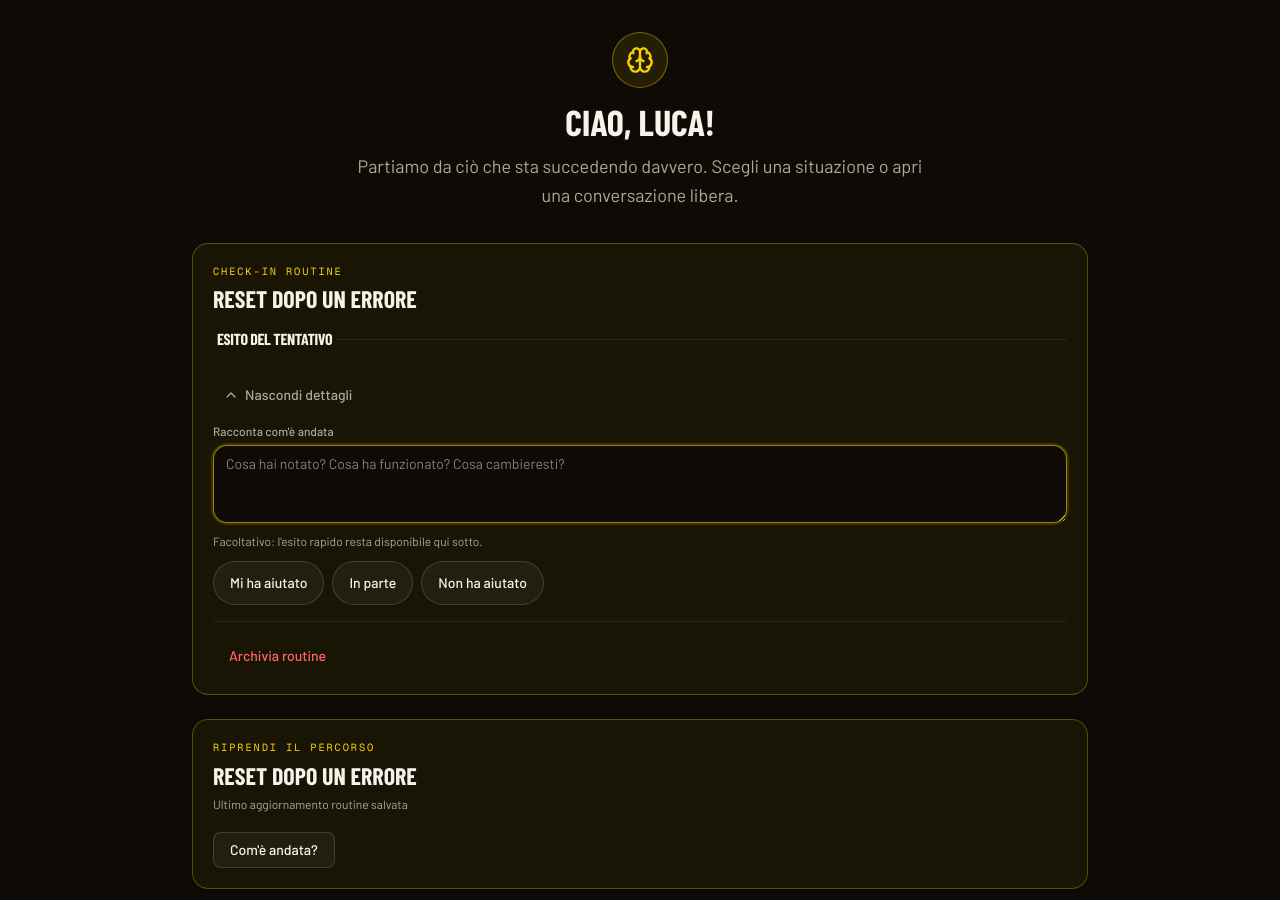
chat landing page › archives an orphan routine after accessible confirmation and clears its return
Check: the element "Esito del tentativo" is shown, box left=213, top=327, right=1067, bottom=605
Click the button "Archivia routine" at coordinates (278, 656), box left=213, top=638, right=342, bottom=674
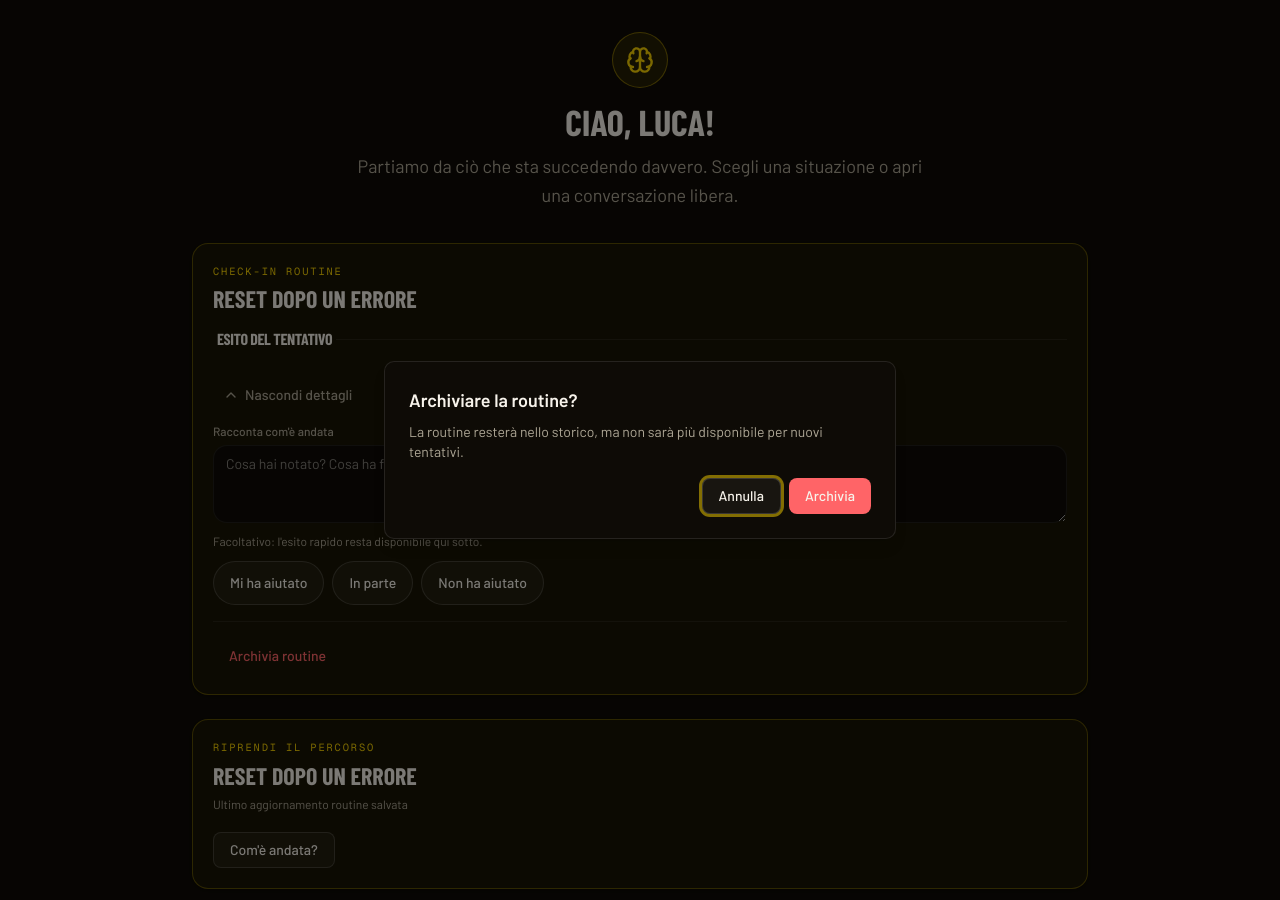
Click the button "Archivia" at coordinates (830, 496), box left=789, top=478, right=871, bottom=514
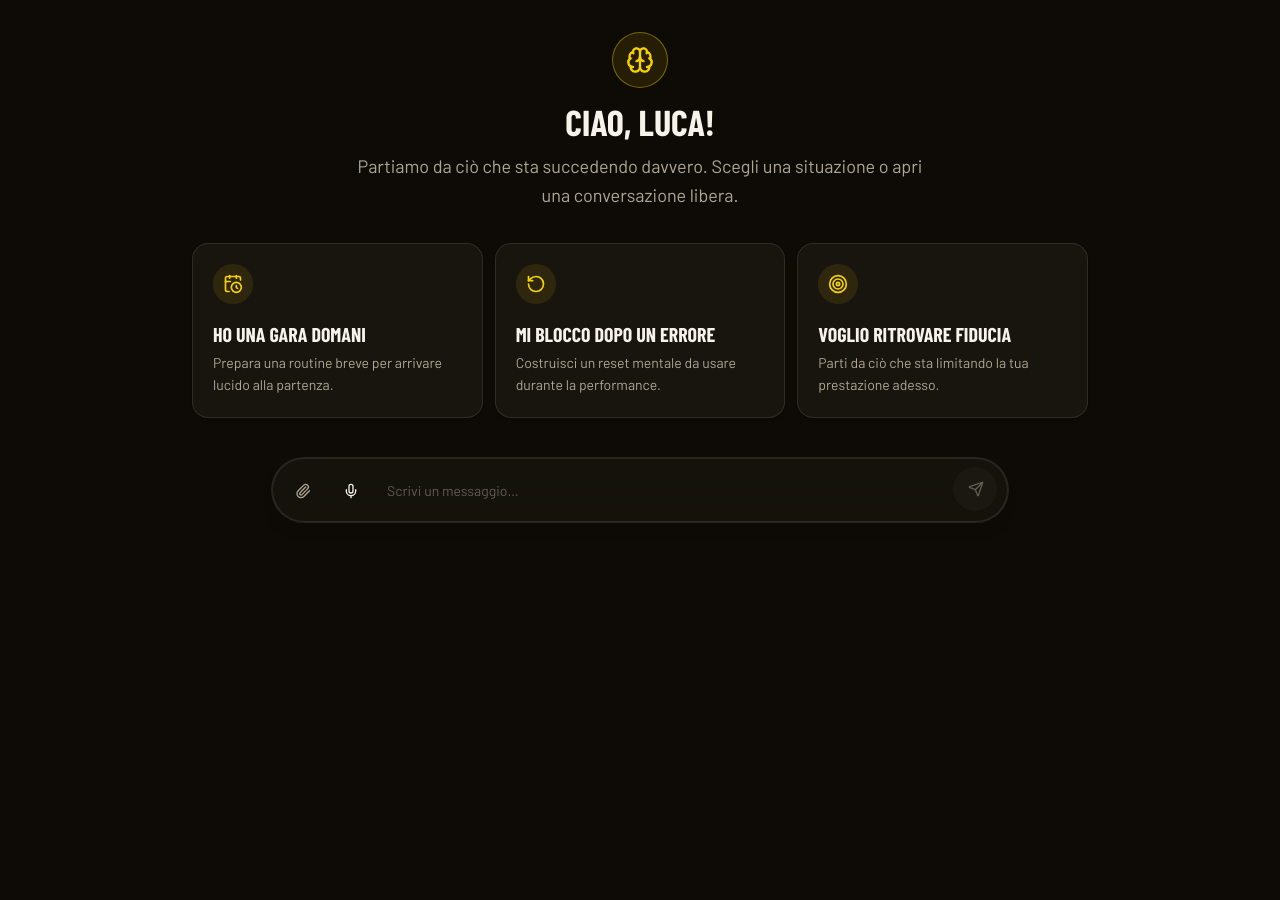
Check: the text "Esito del tentativo" is gone
Check: the button "Archivia routine" is gone
Check: the text "Riprendi il percorso" is gone
